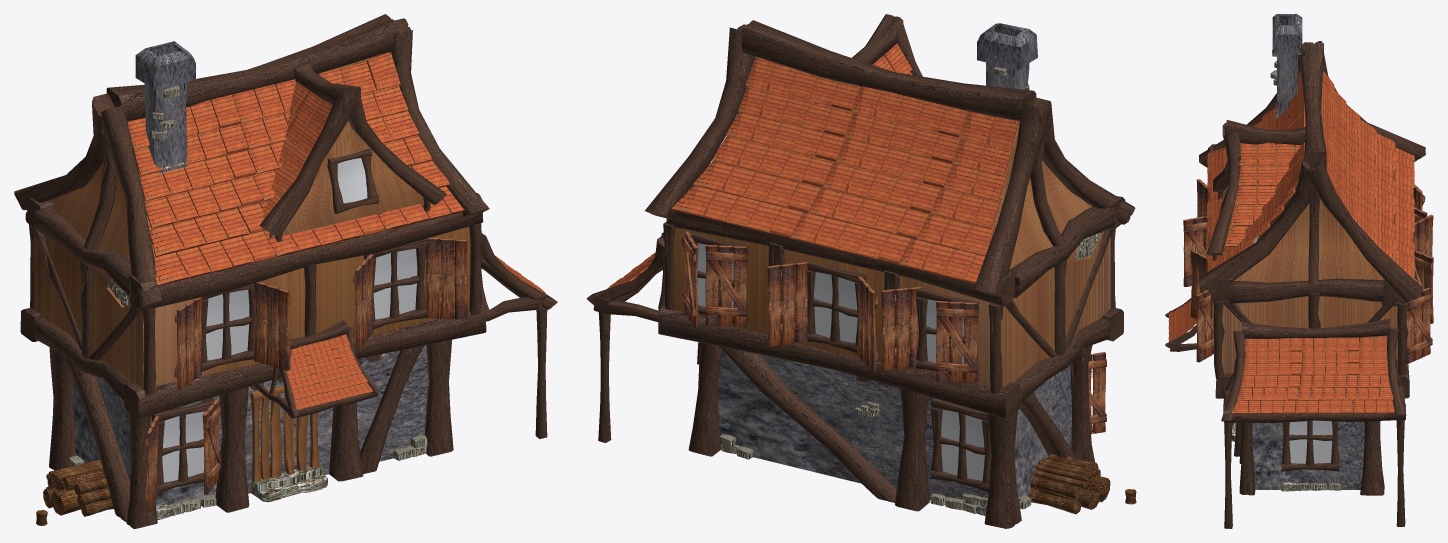
File: PrimeraCasaText.fbx
3 renders of one model, left to right at view 1: azimuth 30°, elevation 25°; view 2: azimuth 150°, elevation 25°; view 3: azimuth 270°, elevation 25°, orthographic. The views are drawn at different scales.
Parts seen in each view (by area): view 1: Object009; view 2: Object009; view 3: Object009.
Boxes of the visible parts, box(x1,y1,x2,y2) form: Object009: box(14, 14, 557, 528); Object009: box(586, 14, 1136, 528); Object009: box(1165, 14, 1433, 528).
Bounding box in the file's own units: 3.64 × 3.21 × 2.11.
